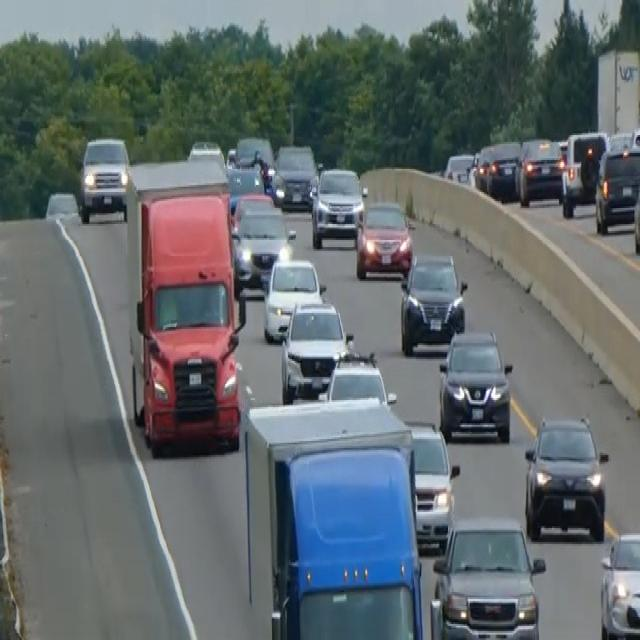car: (429, 514, 546, 638), (523, 411, 609, 542), (437, 325, 513, 443), (279, 297, 352, 402), (405, 418, 459, 551), (398, 250, 467, 354), (231, 198, 295, 286), (262, 254, 325, 343), (355, 197, 413, 279), (318, 347, 396, 407), (310, 164, 366, 247), (78, 134, 130, 222), (598, 530, 639, 638), (560, 128, 608, 217), (594, 142, 639, 233), (516, 135, 564, 206), (272, 140, 318, 210), (474, 139, 520, 199), (225, 162, 265, 212), (234, 133, 273, 169), (443, 149, 475, 185), (187, 137, 225, 167), (473, 142, 494, 192), (632, 164, 639, 256)
lorry: (242, 396, 424, 638), (123, 157, 245, 455)
